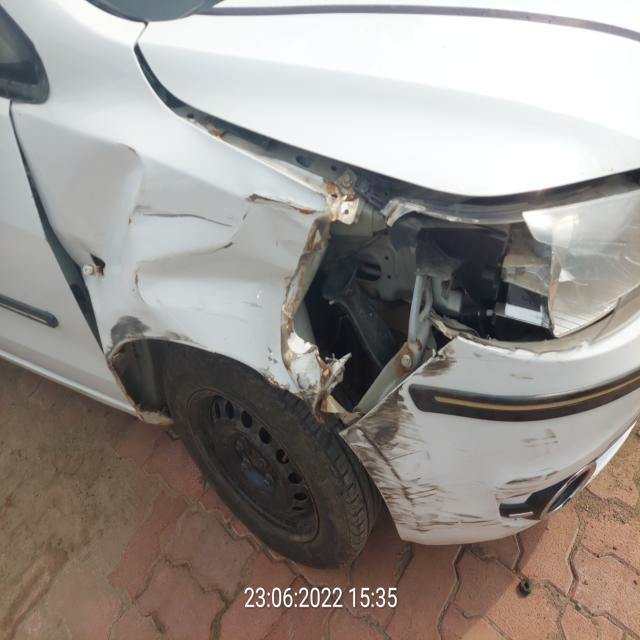damage: (47, 76, 431, 426), (351, 334, 467, 549), (444, 206, 593, 345), (500, 455, 600, 527)
